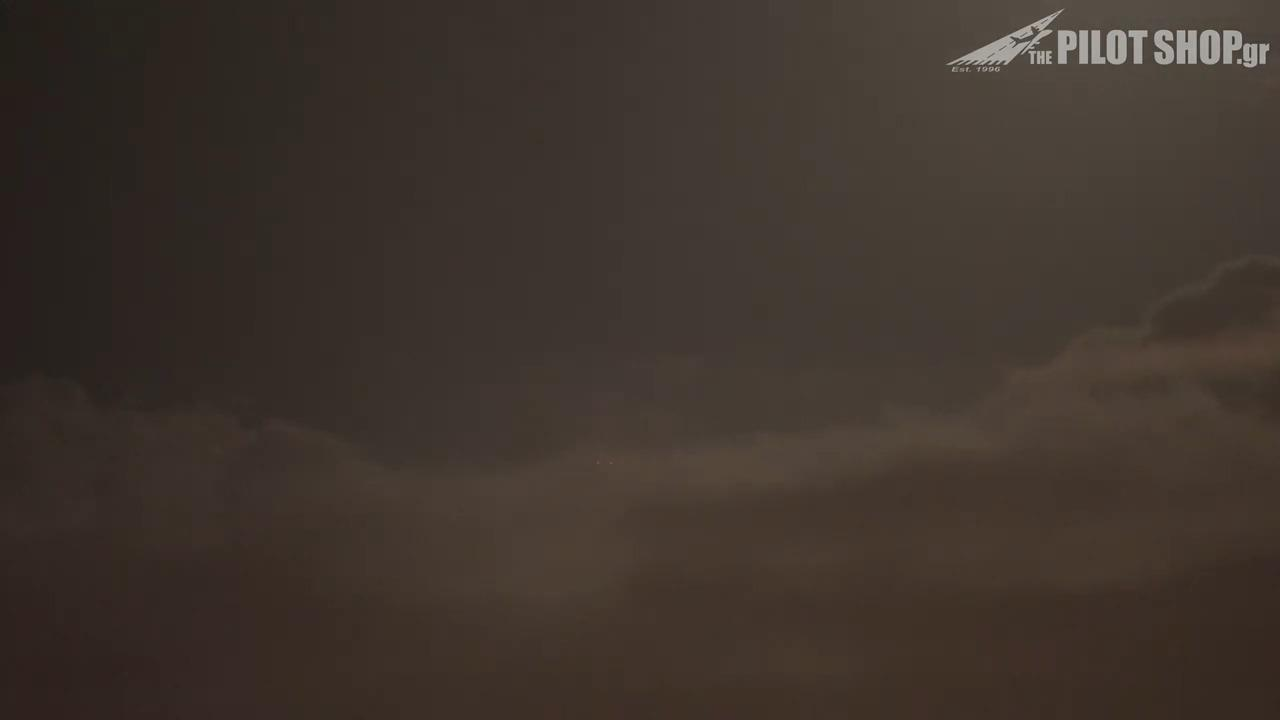Plane: (588, 457, 621, 474)
